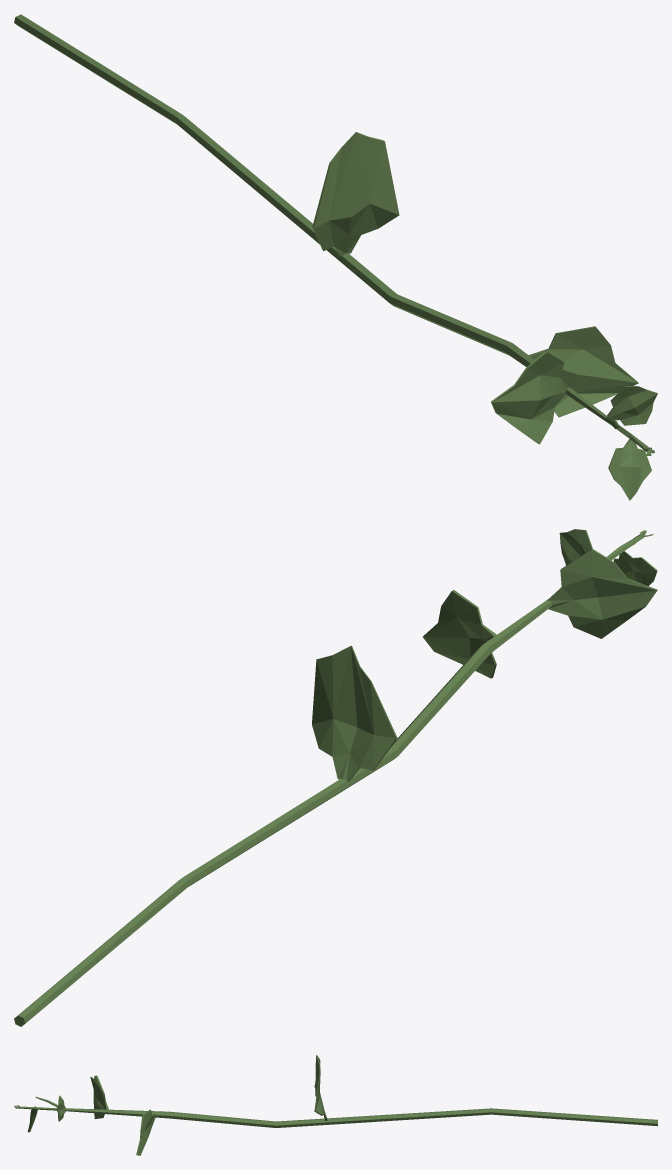
3 views of the same model, one above another, from view 1: azimuth 30°, elevation 25°; view 2: azimuth 150°, elevation 25°; view 3: azimuth 270°, elevation 25° (orthographic). The views are drawn at different scales.
Visible parts, largest first — view 1: 冬葵_polySurface16; view 2: 冬葵_polySurface16; view 3: 冬葵_polySurface16.
Boxes of the visible parts, x1=… form: 冬葵_polySurface16: x1=14, y1=14, x2=657, y2=500; 冬葵_polySurface16: x1=14, y1=529, x2=657, y2=1026; 冬葵_polySurface16: x1=14, y1=1055, x2=657, y2=1155.
Bounding box in the file's own units: 7.11 × 5.86 × 40.52.
